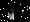person: (9, 10, 14, 20)
